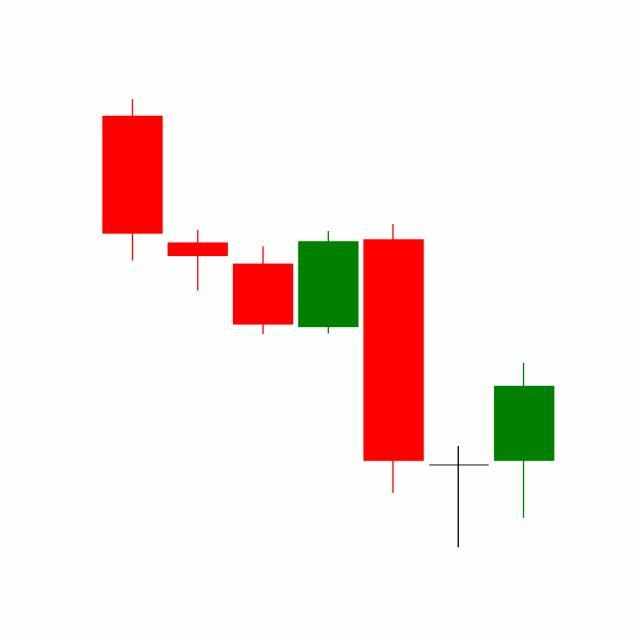Morning Doji Star: (360, 220, 556, 549)
